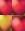heart: (12, 15, 25, 31), (0, 0, 12, 15)
